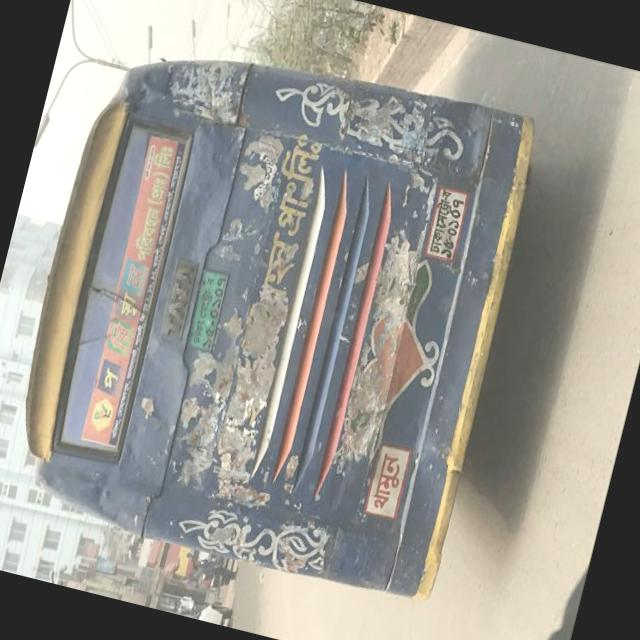bus: (0, 0, 581, 621)
